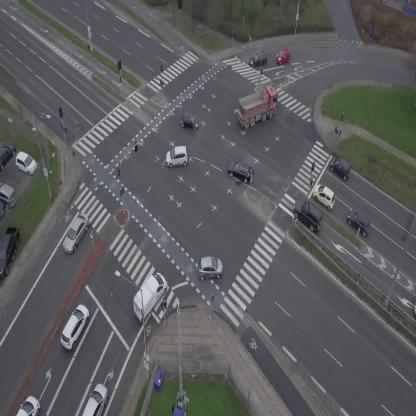car: (56, 302, 94, 352), (287, 195, 329, 235), (58, 211, 94, 255), (343, 206, 377, 239), (308, 180, 341, 212), (82, 381, 111, 416), (326, 154, 355, 181), (225, 159, 256, 184), (196, 254, 224, 281), (164, 145, 189, 168), (16, 396, 40, 416), (179, 111, 201, 131), (248, 50, 269, 67), (273, 47, 292, 65)
lorry: (230, 82, 286, 132), (124, 269, 173, 325)
